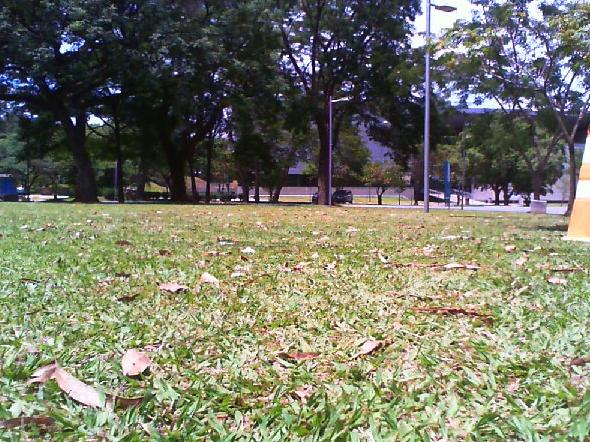0 cone: (560, 125, 590, 243)
